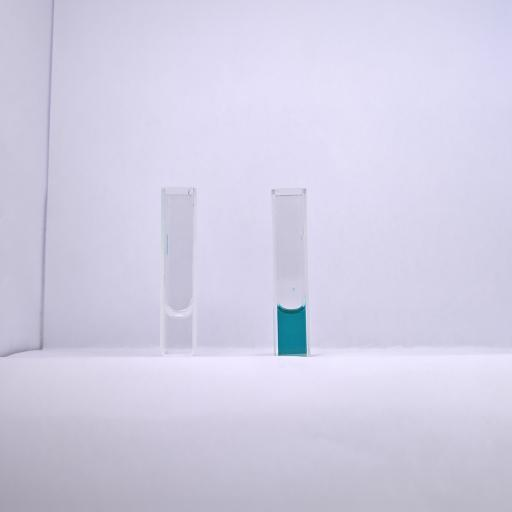cuvette: (269, 186, 312, 358), (159, 184, 199, 359)
liquid: (164, 308, 193, 354), (278, 307, 306, 354)
